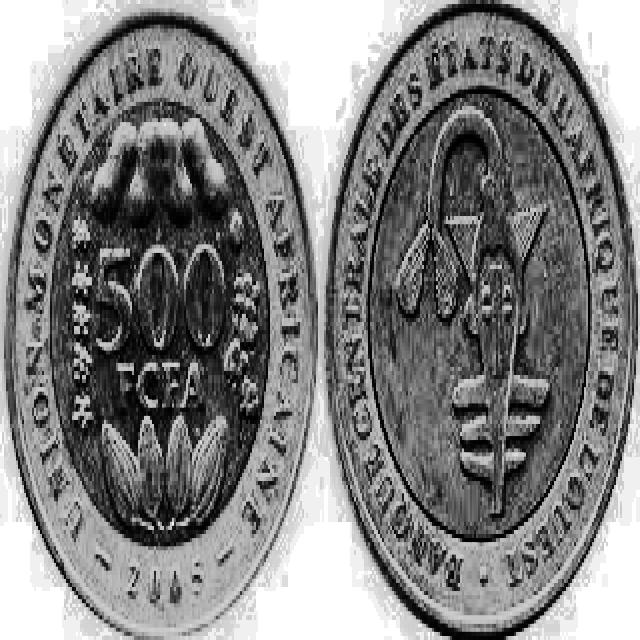teemeer: (328, 8, 635, 633), (8, 15, 314, 632)
